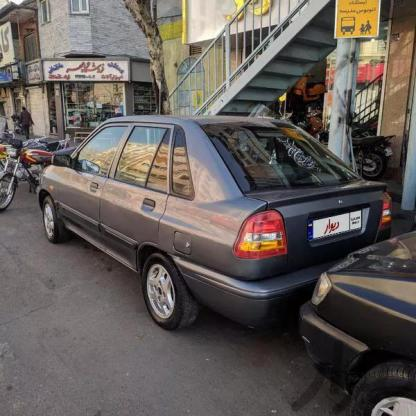Car: (18, 96, 358, 355), (315, 227, 416, 416)
